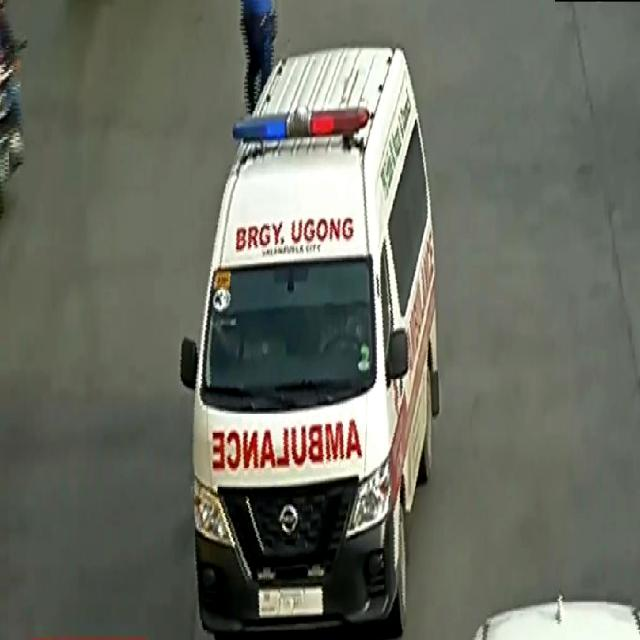emergency: (179, 43, 441, 640)
